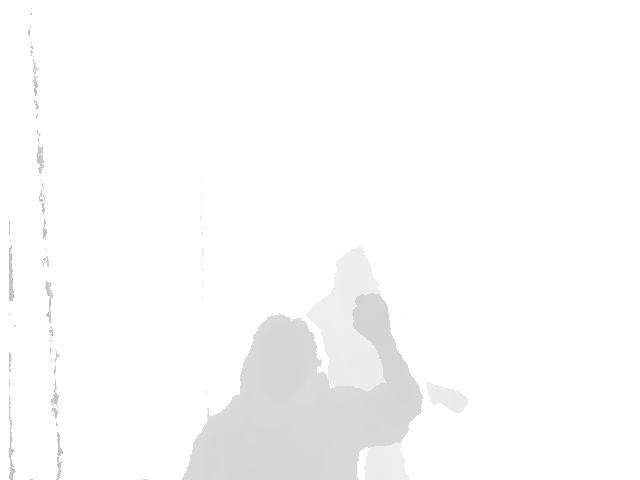hand: (350, 294, 393, 339)
head: (240, 316, 321, 399), (332, 247, 373, 295)
person: (179, 295, 423, 480), (306, 247, 470, 480)
